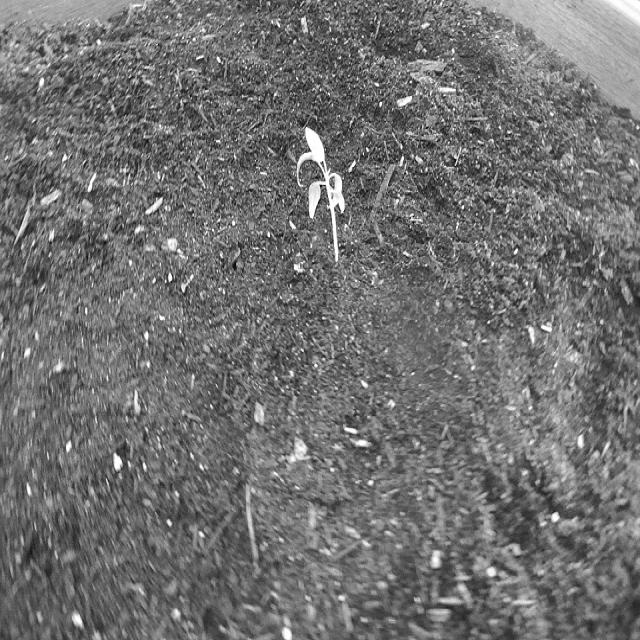Healthy: (296, 124, 350, 270)
